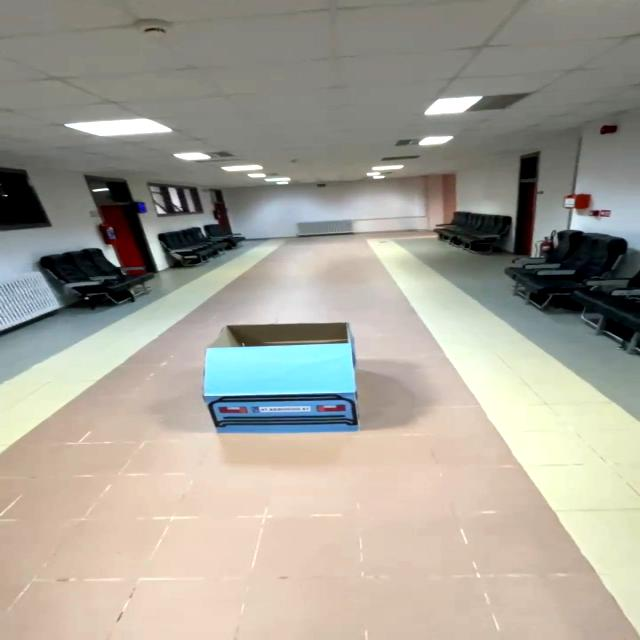blue_car: (190, 302, 377, 458)
